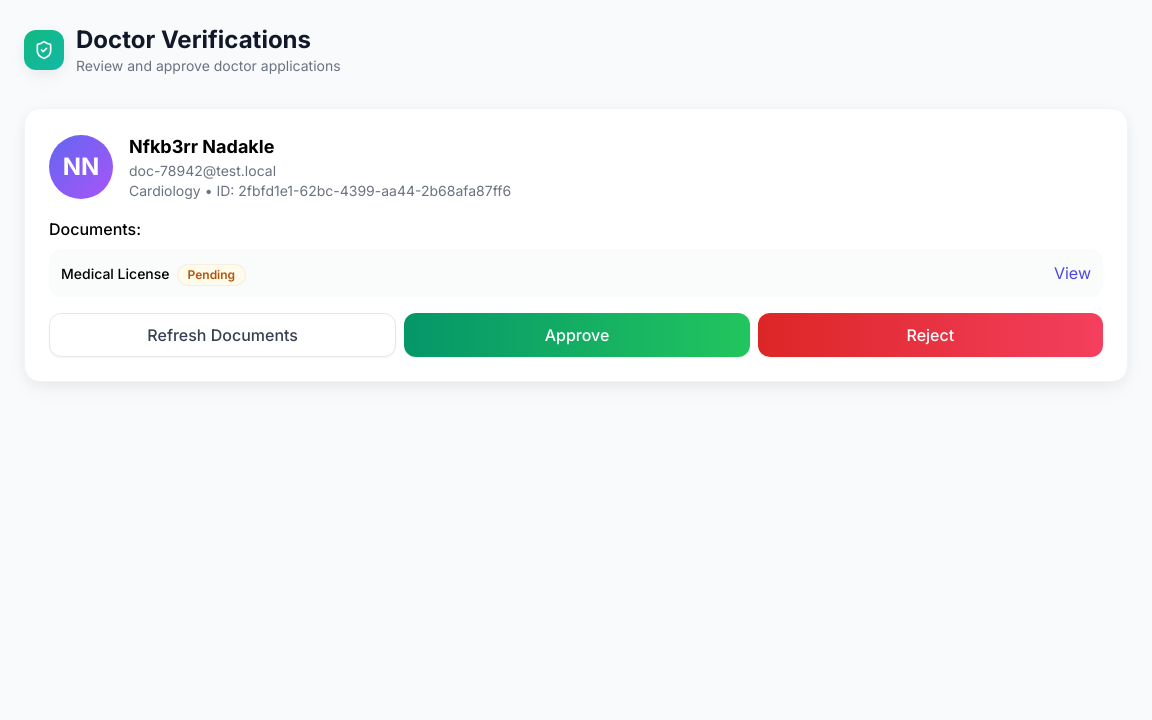
Test case: AdminDoctorVerificationPage › does not allow rejecting without a reason
Click the button "Reject": coordinates (930, 335) [758,313,1103,357]
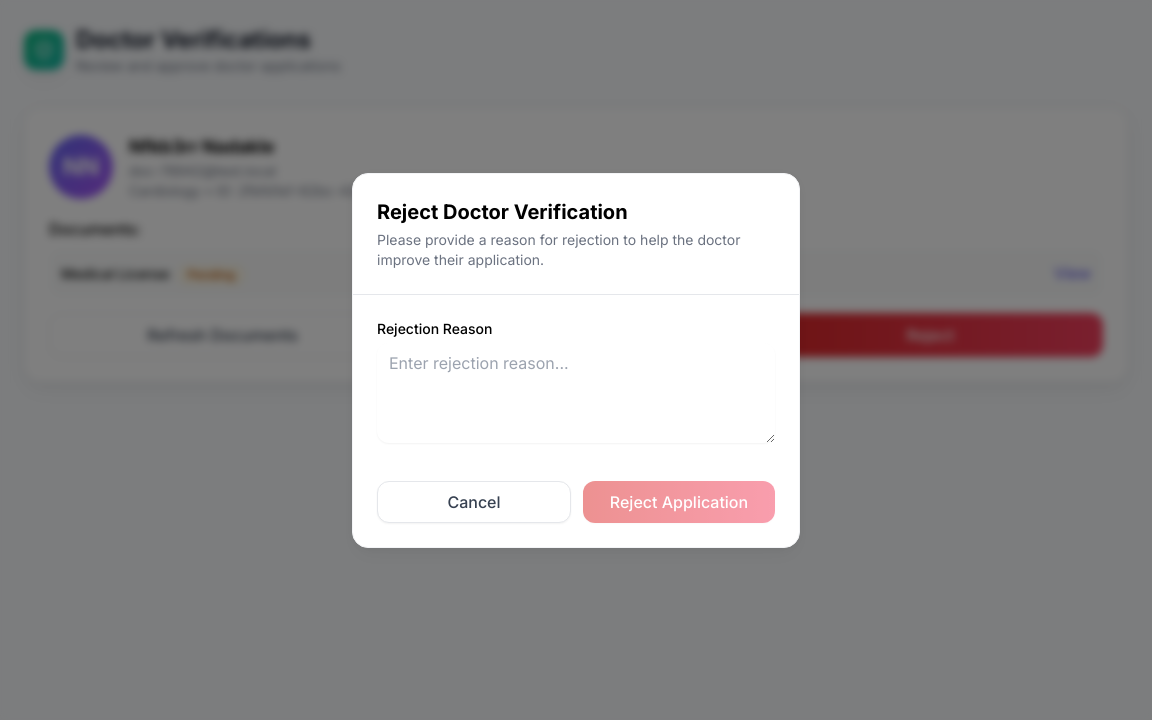
Expected: the button "Reject Application" is disabled, [583,480,775,522]
